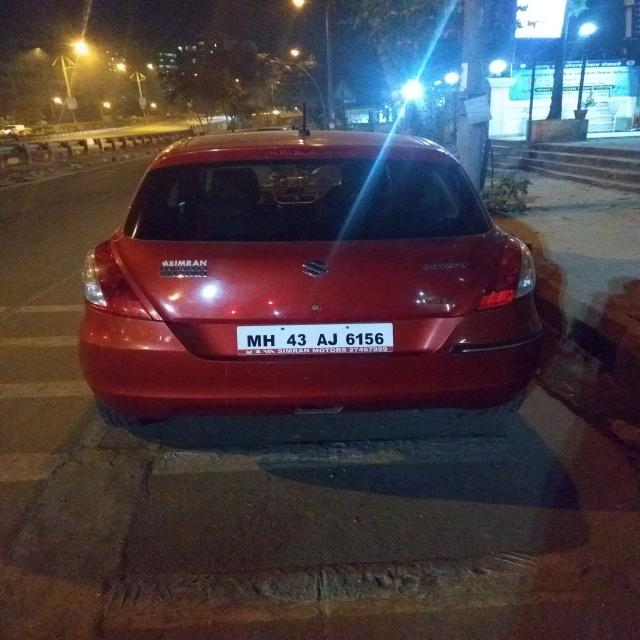Number-Plate: (238, 323, 392, 352)
